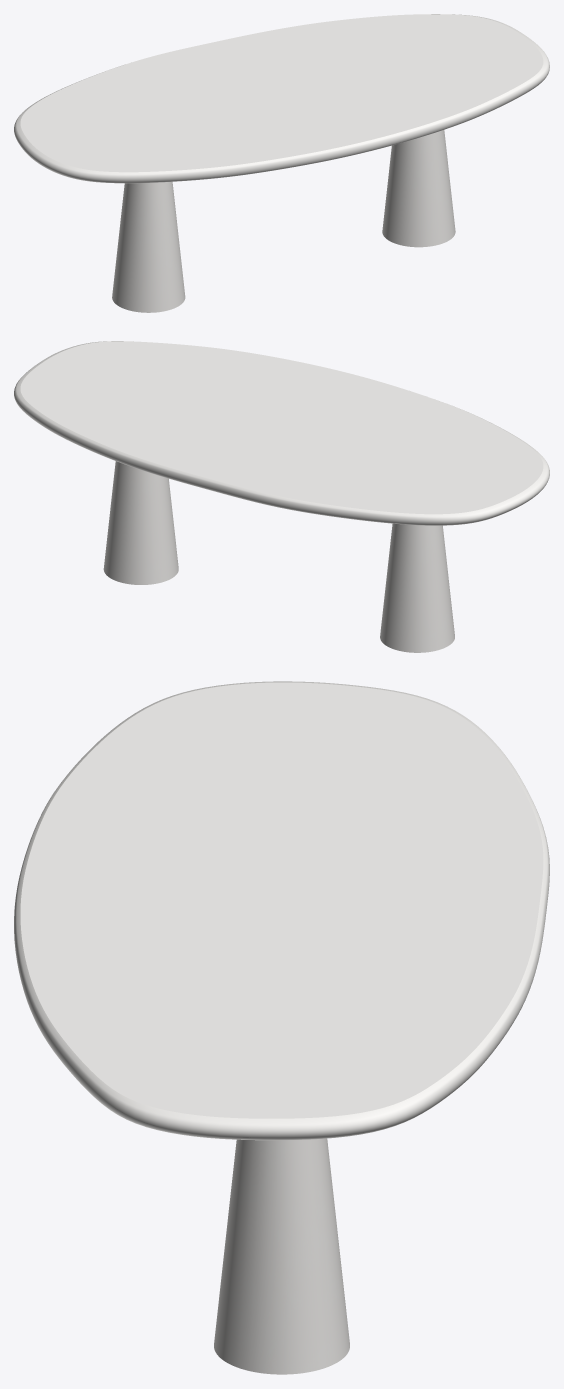
Rendered from purewhite_danish_round_pebble.glb.
3 renders of one model, top to bottom at view 1: azimuth 30°, elevation 25°; view 2: azimuth 150°, elevation 25°; view 3: azimuth 270°, elevation 25°, orthographic. The views are drawn at different scales.
Visible parts, largest first — view 1: round_danish, pebble; view 2: round_danish, pebble; view 3: round_danish, pebble.
Boxes of the visible parts, x1,y1,x2,y2 form: round_danish: (14, 14, 549, 183); pebble: (112, 130, 455, 312); round_danish: (14, 341, 549, 525); pebble: (103, 461, 454, 652); round_danish: (14, 681, 549, 1140); pebble: (214, 1138, 349, 1374).
Size of the model in its own units: 7.5 by 2.5 by 3.8.
1 material, 1 textured.
